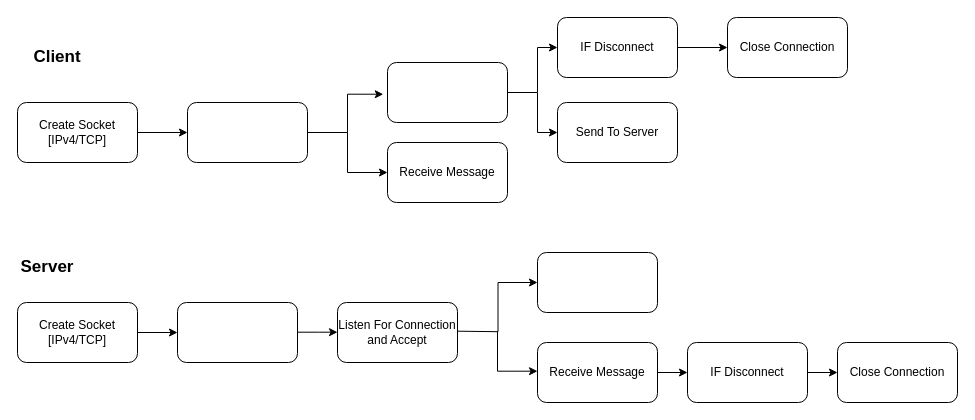
Some shapes in this 975 by 420 pixel diagram are drawn without their labels. The shapes that lost their labels are listed below. From the top down, each one's centre as x and y in pixels, then its label:
(447,92): Input Message
(247,132): Connect To Server
(597,282): Send Message
(237,332): Bind To IP and Port
